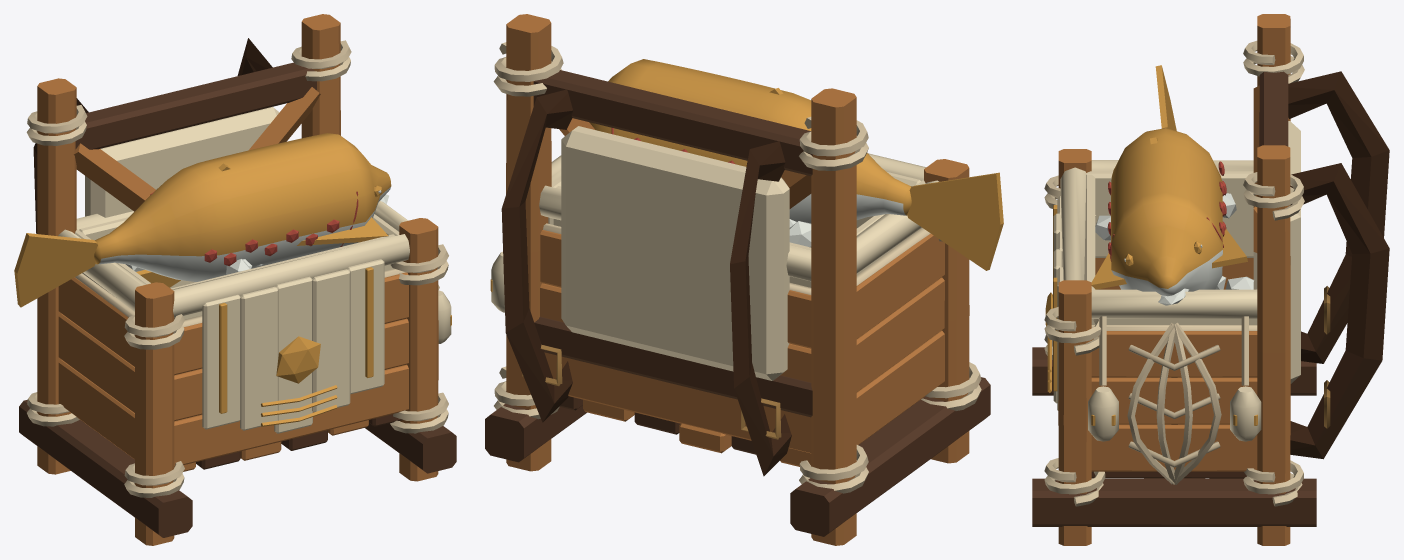
Rendered from prop_trade_pack_arowana_a.glb.
3 views of the same model, side by side, from view 1: azimuth 30°, elevation 25°; view 2: azimuth 150°, elevation 25°; view 3: azimuth 270°, elevation 25° (orthographic). The views are drawn at different scales.
Visible parts, largest first — view 1: prop_trade_pack_arowana_a_LOD0; view 2: prop_trade_pack_arowana_a_LOD0; view 3: prop_trade_pack_arowana_a_LOD0.
Part boxes in pixels (<box>): prop_trade_pack_arowana_a_LOD0: <box>14,14,456,545</box>; prop_trade_pack_arowana_a_LOD0: <box>485,14,1003,545</box>; prop_trade_pack_arowana_a_LOD0: <box>1032,14,1389,545</box>.
Size of what is drawn, in the model's own units: 1.06 by 0.96 by 0.8041.
